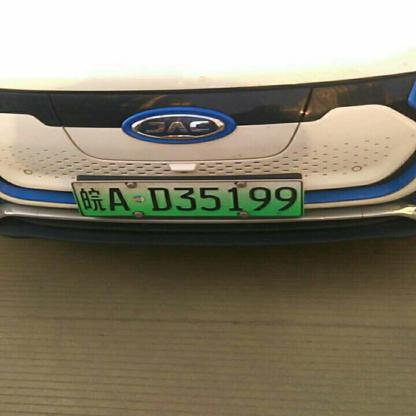lp: (72, 181, 300, 215)
